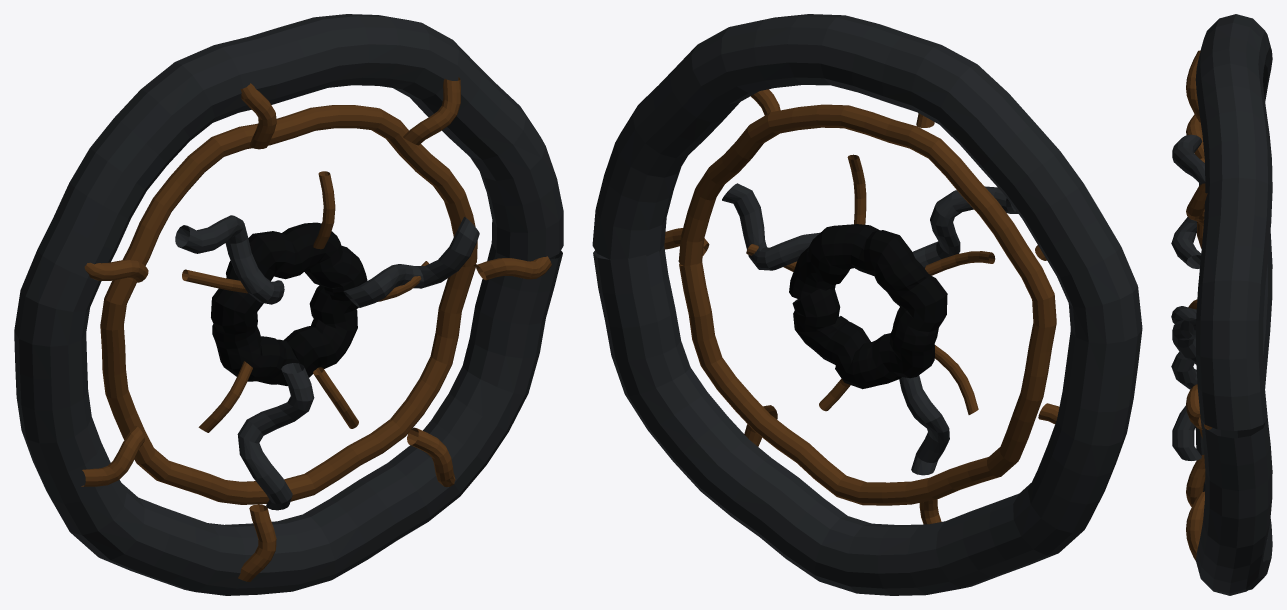
File: B3_Seal_LOD0.obj
3 renders of one model, left to right at view 1: azimuth 30°, elevation 25°; view 2: azimuth 150°, elevation 25°; view 3: azimuth 270°, elevation 25°, orthographic. The views are drawn at different scales.
Bounding box in the file's own units: 0.9545 × 0.9515 × 0.1659.
